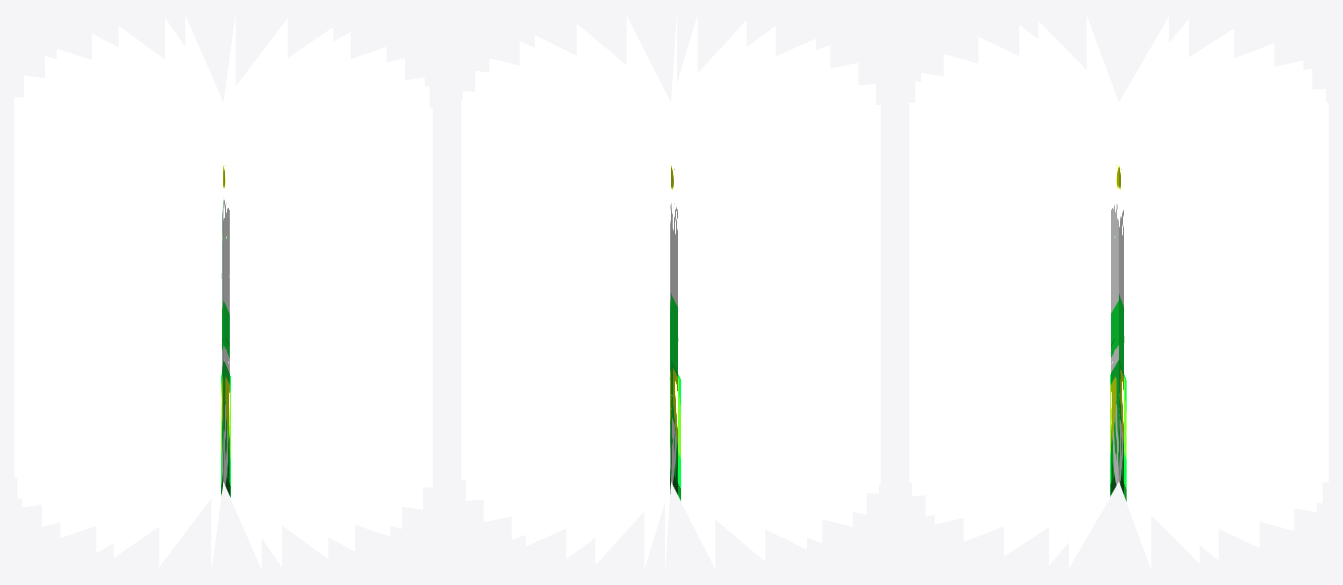
The model's file is cotton.glb.
3 renders of one model, left to right at view 1: azimuth 30°, elevation 25°; view 2: azimuth 150°, elevation 25°; view 3: azimuth 270°, elevation 25°, orthographic.
Parts seen in each view (by area): view 1: Plane.001; view 2: Plane.001; view 3: Plane.001.
Part boxes in pixels (left/top/right/bottom): Plane.001: left=14, top=14, right=432, bottom=570; Plane.001: left=461, top=14, right=880, bottom=570; Plane.001: left=909, top=16, right=1328, bottom=568.
Bounding box in the file's own units: 1.16 × 1.16 × 1.16.
Materials: 1 (1 with a texture image).
